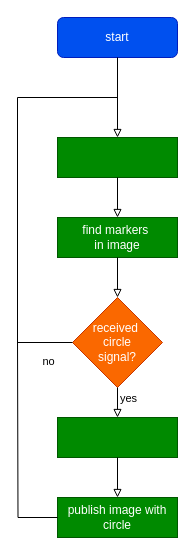
This 195x555 diagram has some shape labels left out. Here are the shapes that lost their labels. From the top down, the box of each, then its label:
(56, 136, 178, 178): receive camera image
(56, 416, 178, 458): find center of first marker and draw circle around it
